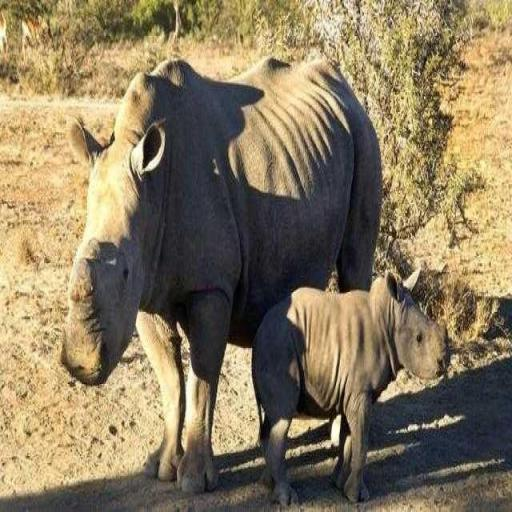Rhino: (60, 52, 382, 494), (250, 265, 450, 506)
